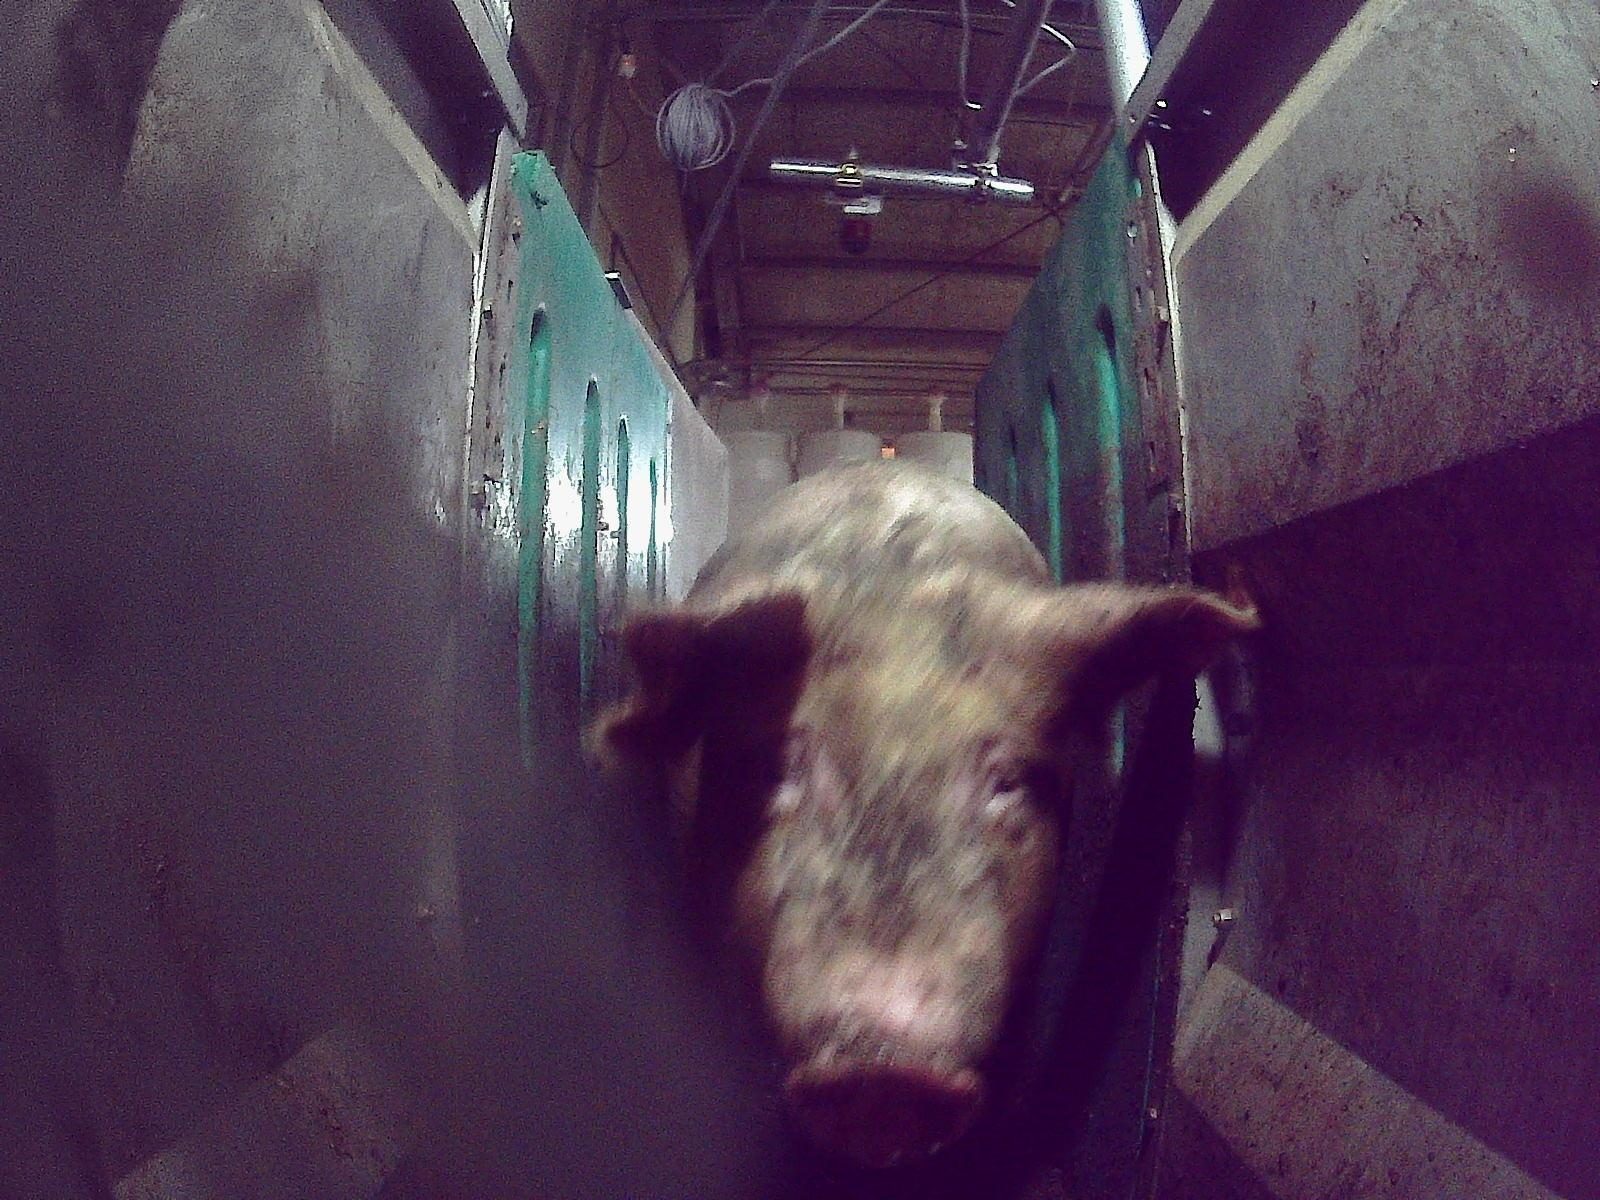Face: (723, 593, 1058, 1166)
